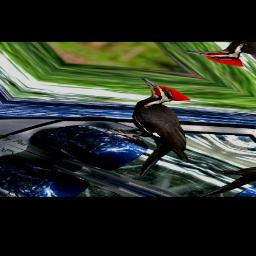Woodpecker: (35, 77, 256, 185)
